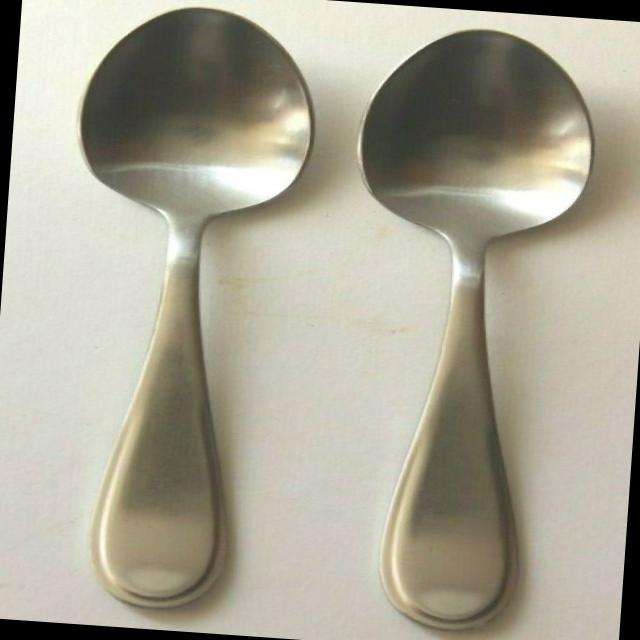spoon: (314, 19, 621, 640)
